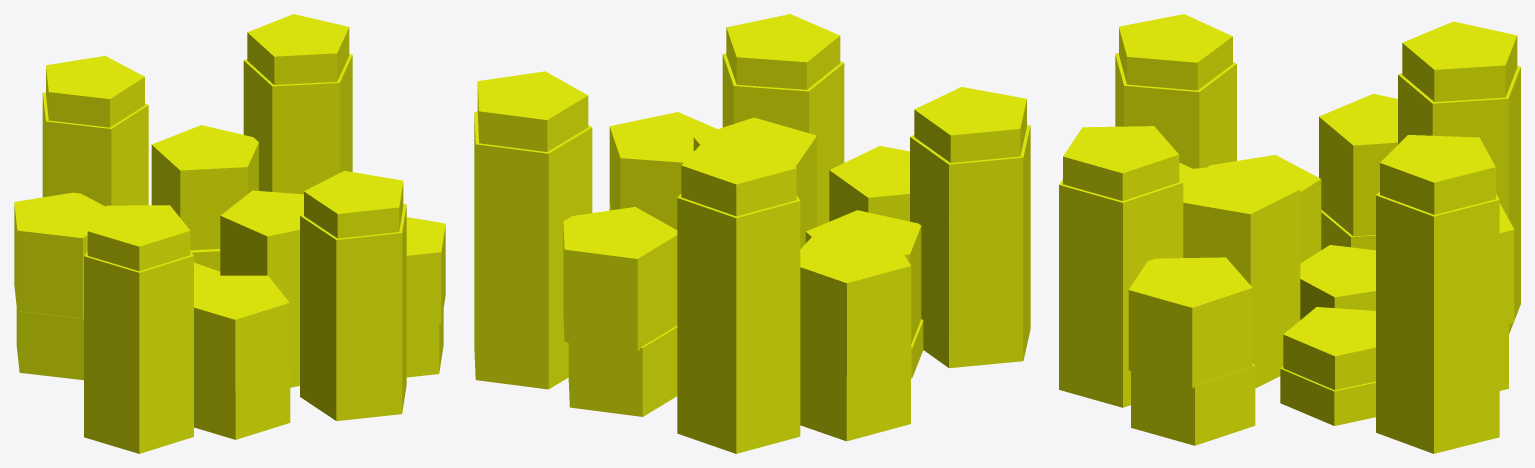
The model's file is coins.fbx.
The picture shows the model from 3 angles, left to right: view 1: azimuth 30°, elevation 25°; view 2: azimuth 150°, elevation 25°; view 3: azimuth 270°, elevation 25°; orthographic projection. The views are drawn at different scales.
Visible parts, largest first — view 1: coins; view 2: coins; view 3: coins.
Part boxes in pixels (bbox=[...]): coins: bbox=[14, 14, 445, 453]; coins: bbox=[474, 14, 1030, 453]; coins: bbox=[1059, 14, 1520, 453].
Size of the model in its own units: 0.179 by 0.1076 by 0.1672.
